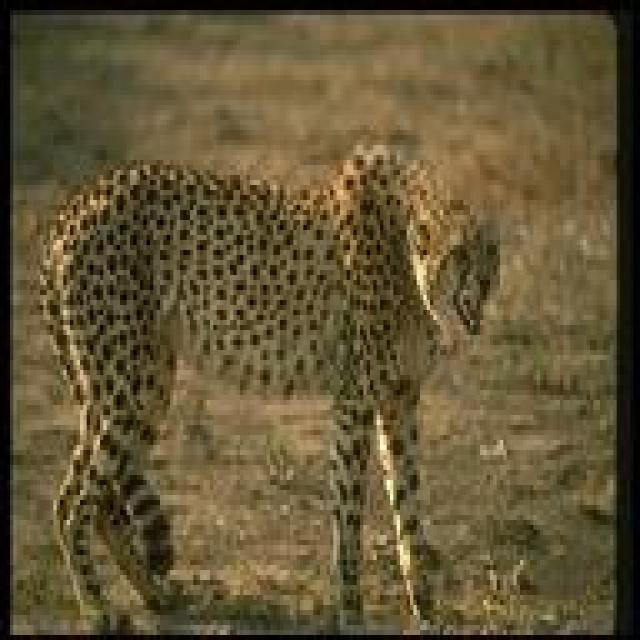Leopard: (37, 130, 509, 621)
